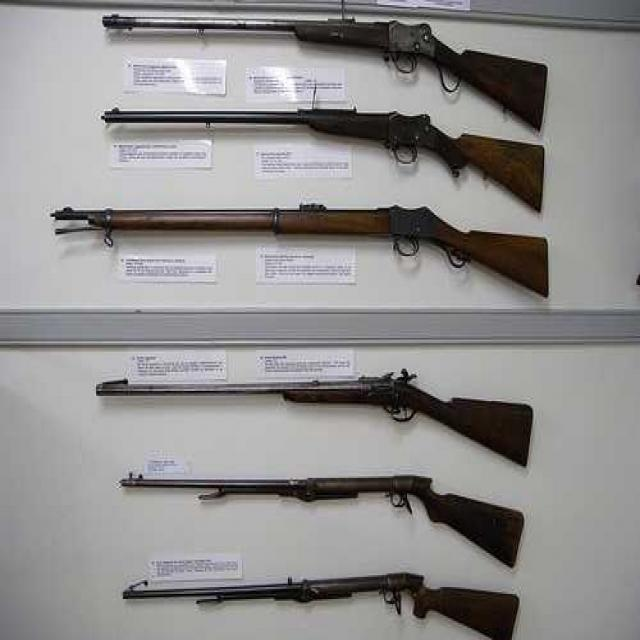weapon: (95, 80, 560, 227), (55, 358, 543, 492), (43, 194, 560, 309), (94, 442, 534, 555), (103, 8, 544, 102), (116, 561, 530, 640)
